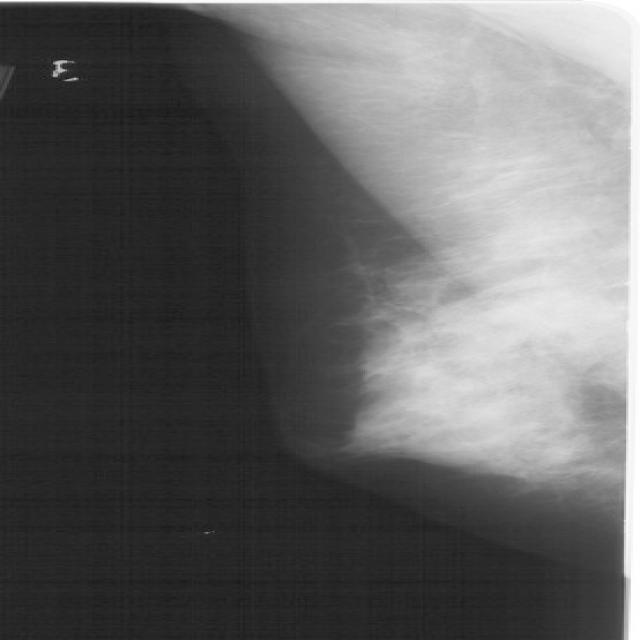tumour: (451, 276, 610, 354)
